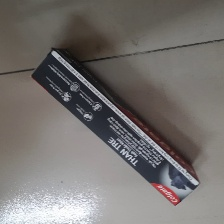Colgate Than: (30, 47, 200, 206)
